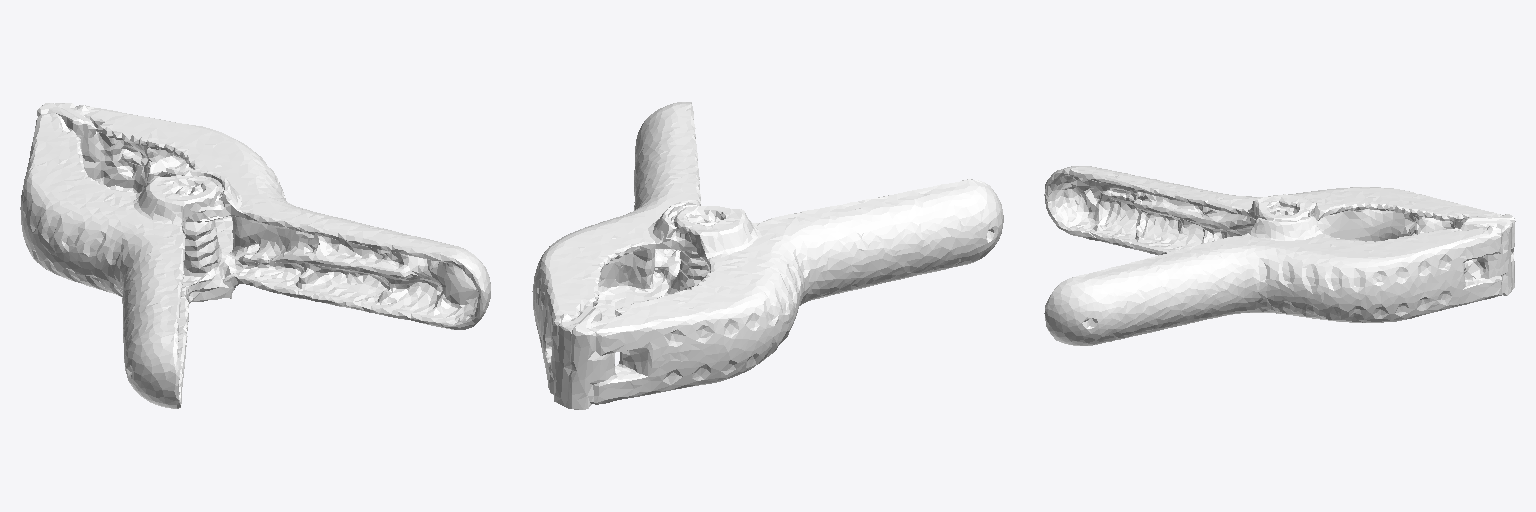
robot.urdf — large_clamp:
<robot name="large_clamp">
    <link name="base_link">
        <visual>
            <origin xyz="0.0 -0.0 0.0" rpy="0.0 0.0 0.0" />
            <geometry>
                <mesh filename="large_clamp/textured.obj" scale="1 1 1" />
            </geometry>
            <material name="texture">
                <color rgba="1.0 1.0 1.0 1.0" />
            </material>
        </visual>
        <collision>
            <origin xyz="0.0 -0.0 0.0" rpy="0.0 0.0 0.0" />
            <geometry>
                <mesh filename="large_clamp/textured_coacd_0.stl" scale="1 1 1" />
            </geometry>
        </collision>
        <collision>
            <origin xyz="0.0 -0.0 0.0" rpy="0.0 0.0 0.0" />
            <geometry>
                <mesh filename="large_clamp/textured_coacd_1.stl" scale="1 1 1" />
            </geometry>
        </collision>
        <collision>
            <origin xyz="0.0 -0.0 0.0" rpy="0.0 0.0 0.0" />
            <geometry>
                <mesh filename="large_clamp/textured_coacd_2.stl" scale="1 1 1" />
            </geometry>
        </collision>
        <collision>
            <origin xyz="0.0 -0.0 0.0" rpy="0.0 0.0 0.0" />
            <geometry>
                <mesh filename="large_clamp/textured_coacd_3.stl" scale="1 1 1" />
            </geometry>
        </collision>
        <collision>
            <origin xyz="0.0 -0.0 0.0" rpy="0.0 0.0 0.0" />
            <geometry>
                <mesh filename="large_clamp/textured_coacd_4.stl" scale="1 1 1" />
            </geometry>
        </collision>
        <inertial>
            <mass value="0.125" />
            <inertia ixx="1e-3" ixy="0.0" ixz="0.0" iyy="1e-3" iyz="0.0" izz="1e-3" />
        </inertial>
    </link>
</robot>

--- What the picture shows (computed from the rendered views, not written in the file) ---
Views: 3 orthographic renders of the robot side by side, from view 1: azimuth 30°, elevation 25°; view 2: azimuth 150°, elevation 25°; view 3: azimuth 270°, elevation 25°.
Model large_clamp with 1 links and 0 joints (none), rooted at base_link, posed every joint at zero.
Visible links, largest first — view 1: base_link; view 2: base_link; view 3: base_link.
Boxes of the visible links, box(x1,y1,x2,y2) form: base_link: box(20, 103, 490, 408); base_link: box(532, 102, 1003, 409); base_link: box(1044, 166, 1515, 345).
Bounding box of the posed robot: 0.1216 × 0.1649 × 0.0362 m (x, y, z).
Meshes: 1 distinct files referenced, 1 mesh visuals loaded (1 OBJ).